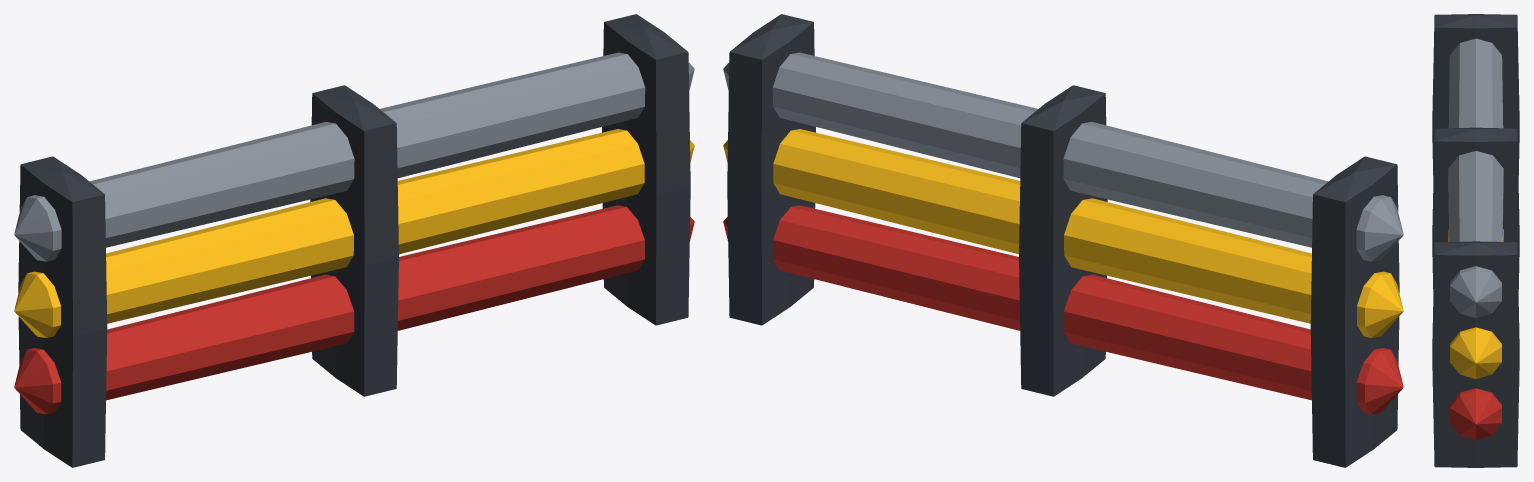
The model's file is r-pipes.glb.
The picture shows the model from 3 angles, left to right: view 1: azimuth 30°, elevation 25°; view 2: azimuth 150°, elevation 25°; view 3: azimuth 270°, elevation 25°; orthographic projection. The views are drawn at different scales.
Parts seen in each view (by area): view 1: p; view 2: p; view 3: p.
Boxes of the visible parts, x1=… form: p: x1=14, y1=14, x2=694, y2=467; p: x1=723, y1=14, x2=1403, y2=467; p: x1=1432, y1=14, x2=1519, y2=467.
Size of the model in its own units: 2.8 by 1.1 by 0.3898.
